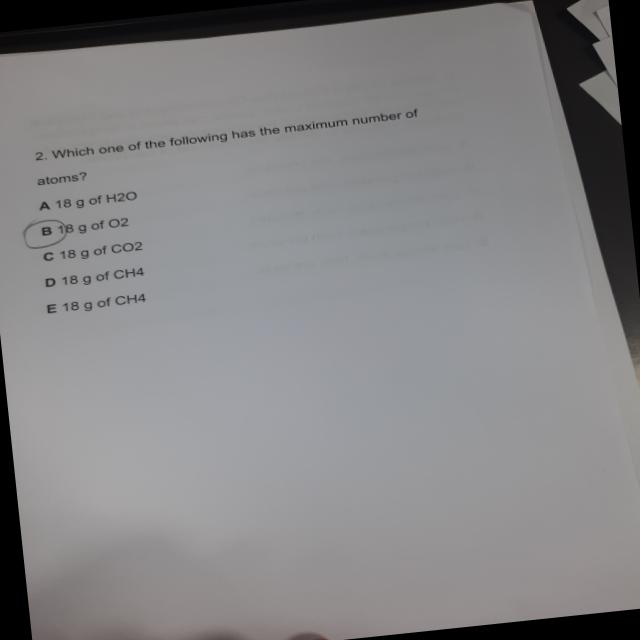B: (18, 216, 71, 252)
